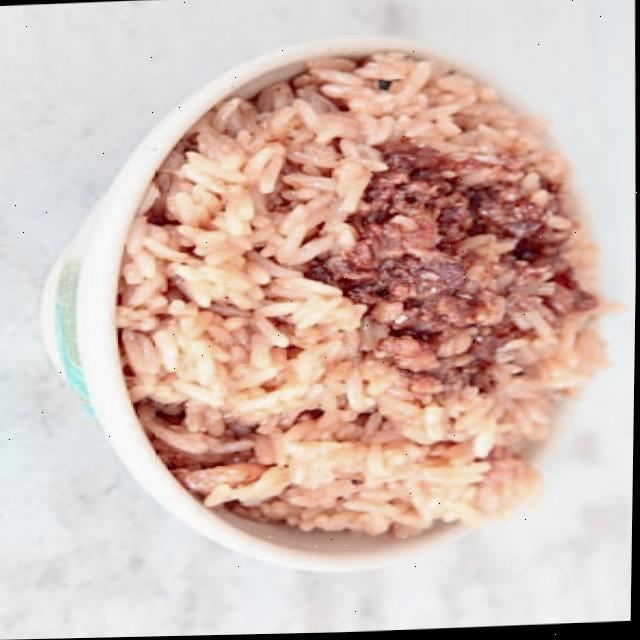米饭主食: (66, 20, 622, 574)
